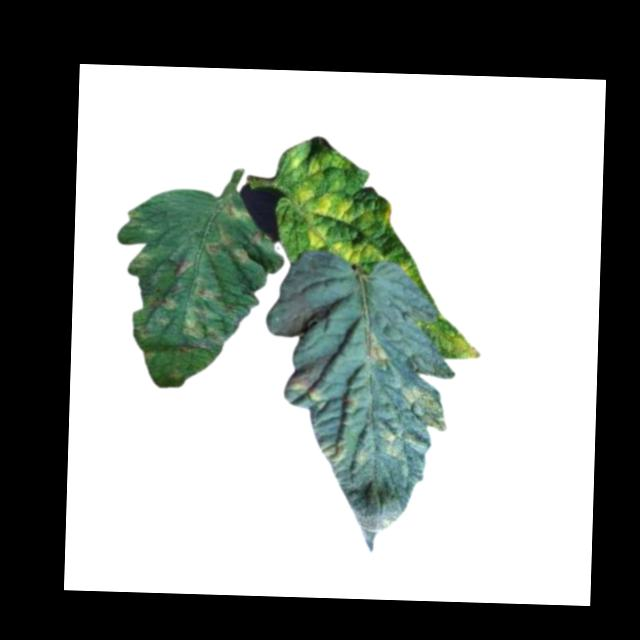Leaf_Mold: (291, 190, 373, 265), (402, 385, 448, 431), (204, 223, 248, 266), (283, 368, 332, 405), (379, 421, 417, 458), (180, 302, 210, 344), (363, 327, 391, 367), (144, 284, 180, 315), (220, 189, 257, 218), (446, 331, 480, 361), (317, 439, 346, 466), (167, 255, 194, 280), (130, 250, 153, 275), (381, 203, 396, 225)
